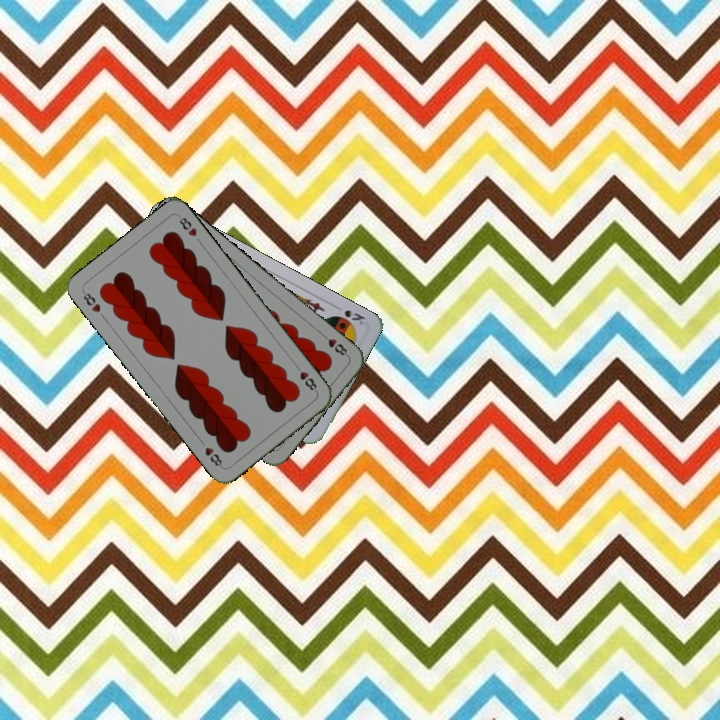H8: (290, 360, 320, 395), (317, 329, 351, 359), (78, 287, 103, 315)
SK: (330, 301, 368, 327)
